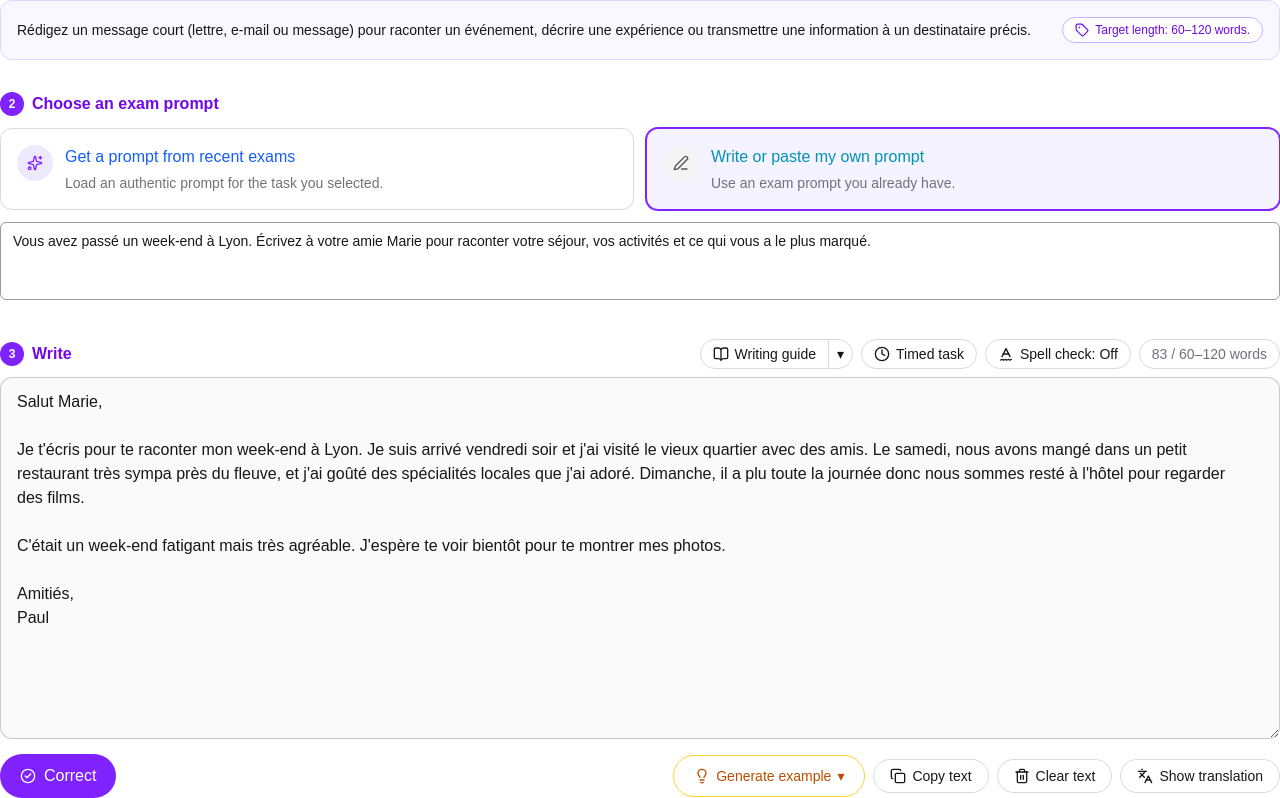
Test: WritingWorkspace: example card and translation split › copies the example, and deleting it closes the card
(page scrolled)
What coordinates should you click on to do the following:
click the button "Generate example ▾"
I would click on:
 (769, 776)
Its box is [678,760,860,792].
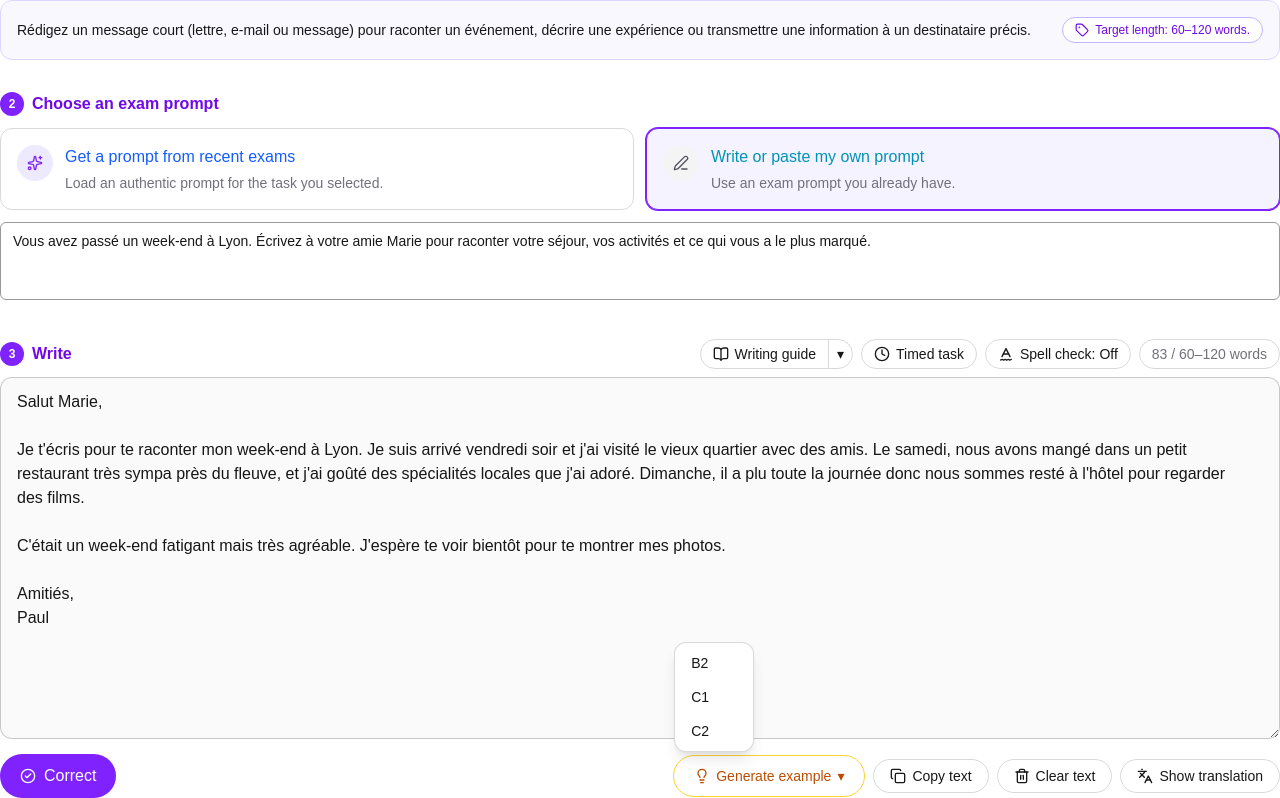
What coordinates should you click on to do the following:
click the menu item "B2"
I would click on:
 (714, 663)
Its box is [679,647,749,679].
(page scrolled)
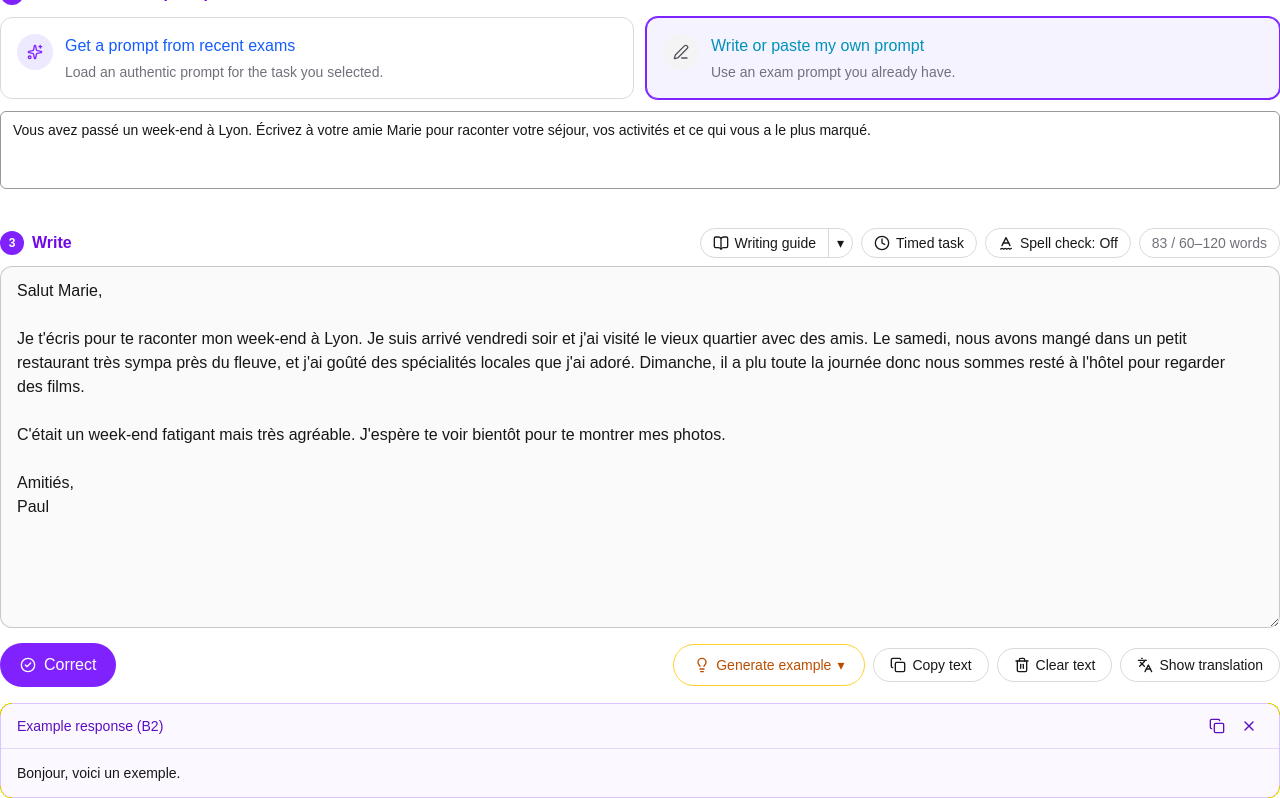
What coordinates should you click on to do the following:
click the button named "Copy example"
I would click on:
 (1217, 726)
Its box is [1203,712,1231,740].
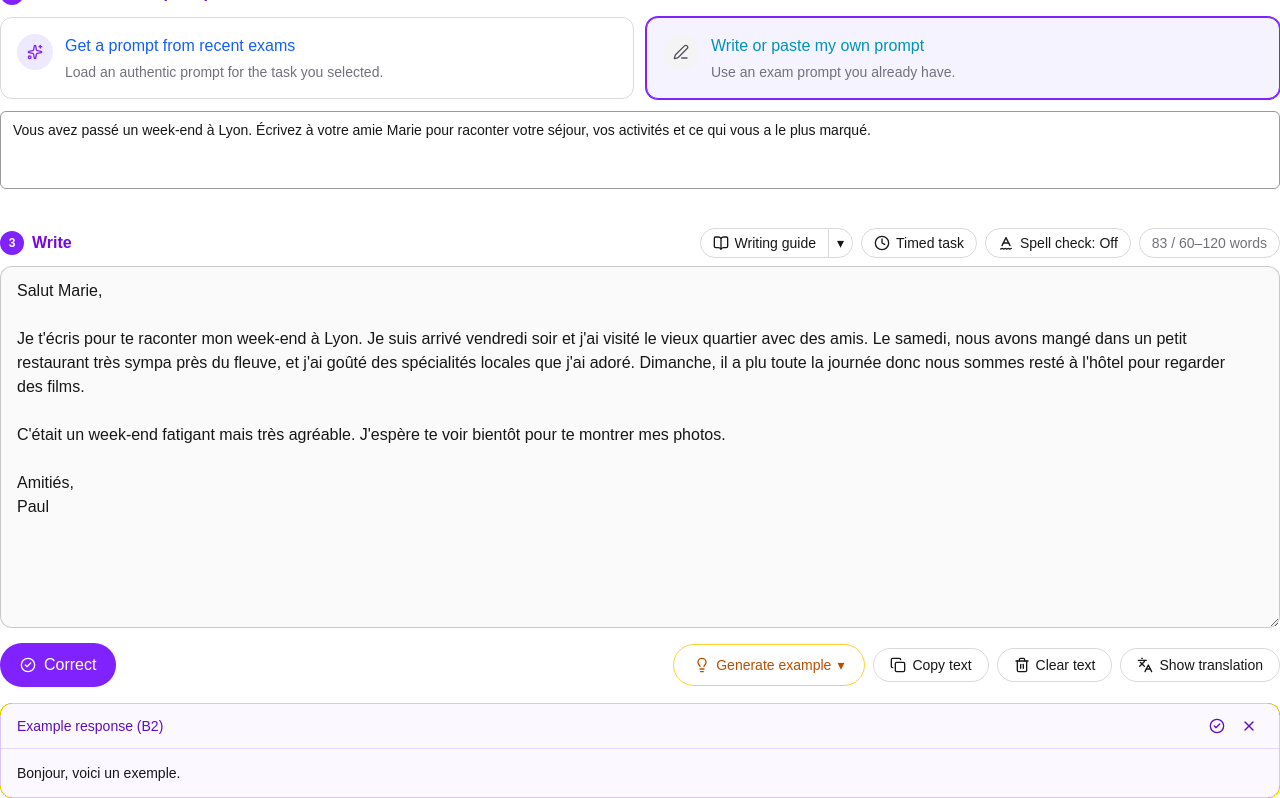
What coordinates should you click on to do the following:
click the button named "Close example"
I would click on:
 (1249, 726)
Its box is [1235,712,1263,740].
(page scrolled)
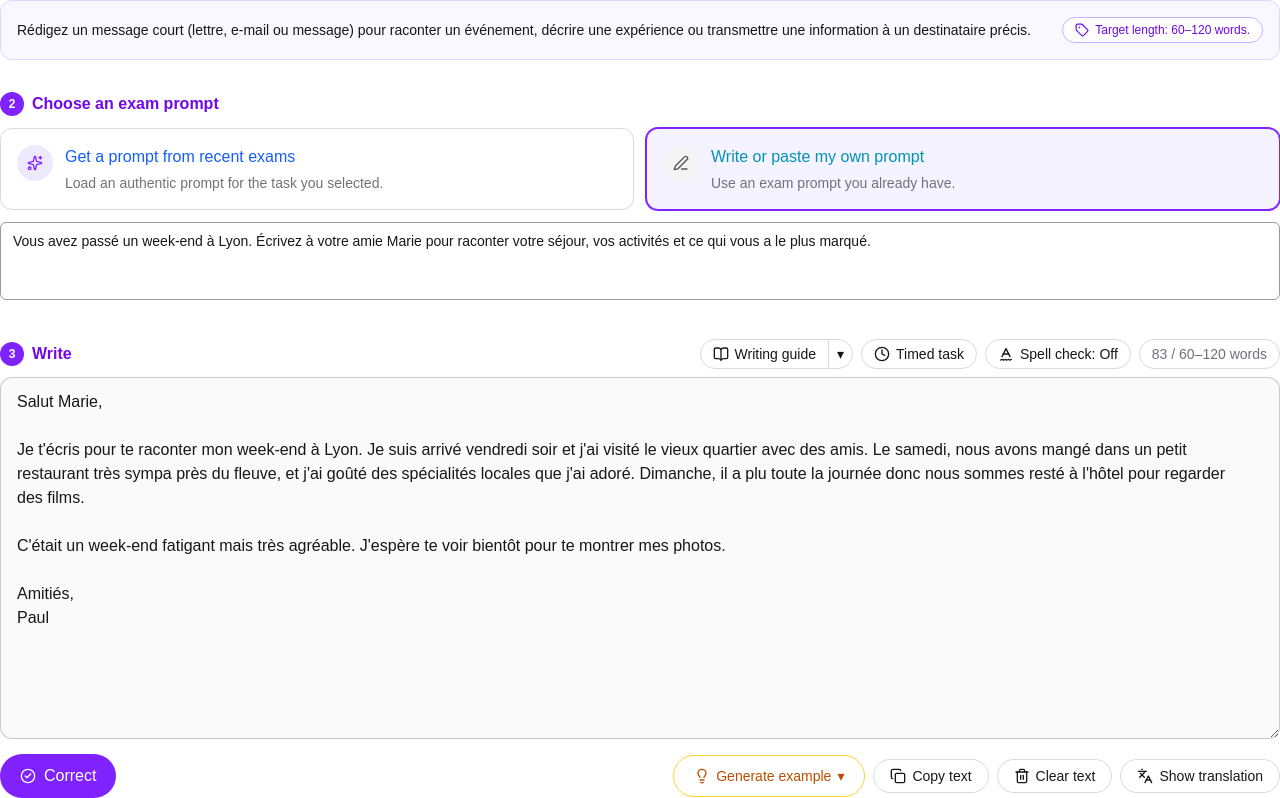
Expected: the text "Bonjour, voici un exemple." is gone
